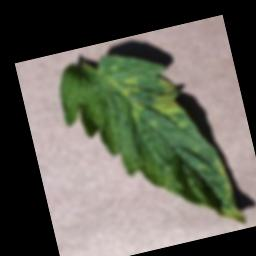Leaf_Mold: (144, 71, 184, 125), (106, 69, 142, 101)
